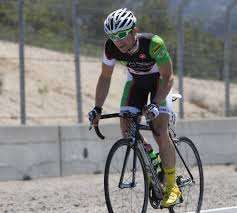helmet: (102, 6, 136, 32)
